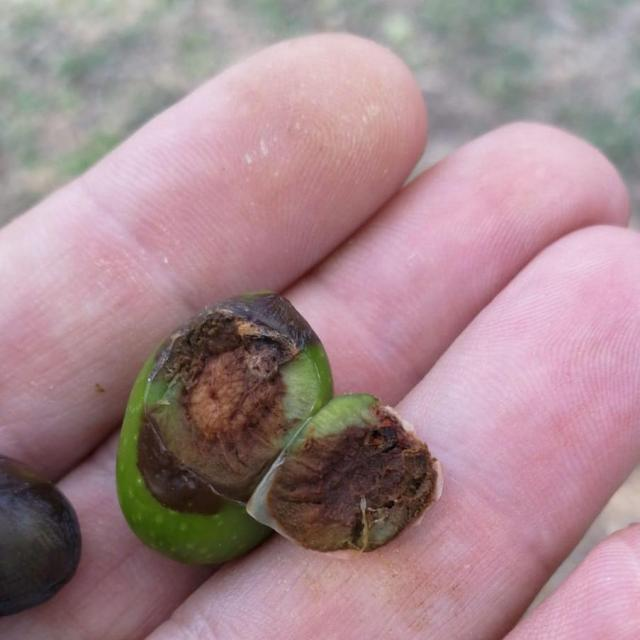Anthracnose: (117, 294, 437, 564)
